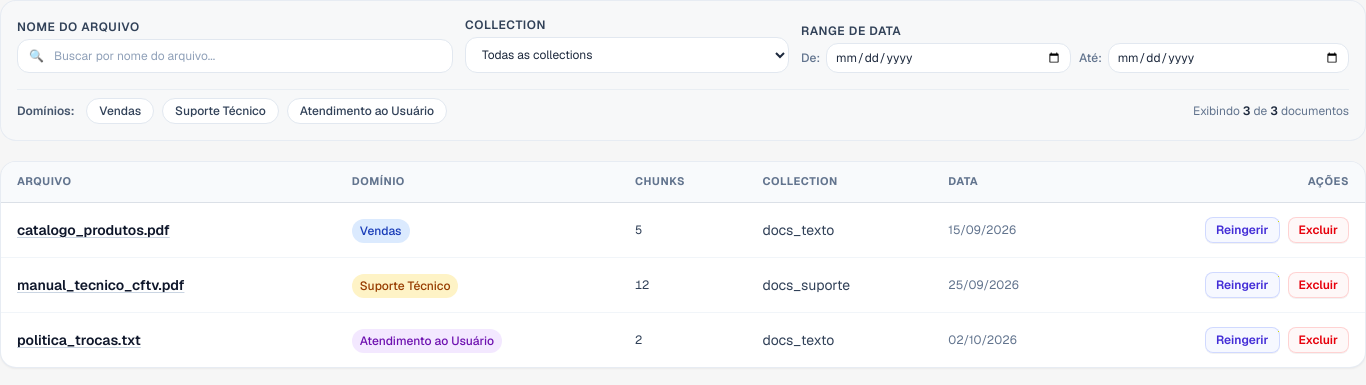
Scenario: DocumentsTable › Filtros de documentos › filtra por range de data de criação
# Filtra documentos criados entre 2026-09-20 e 2026-09-30
Type "2026-09-20" into the date field labelled "De:".
click(949, 58); type("2026-09-20")  # box [826,43,1071,73]
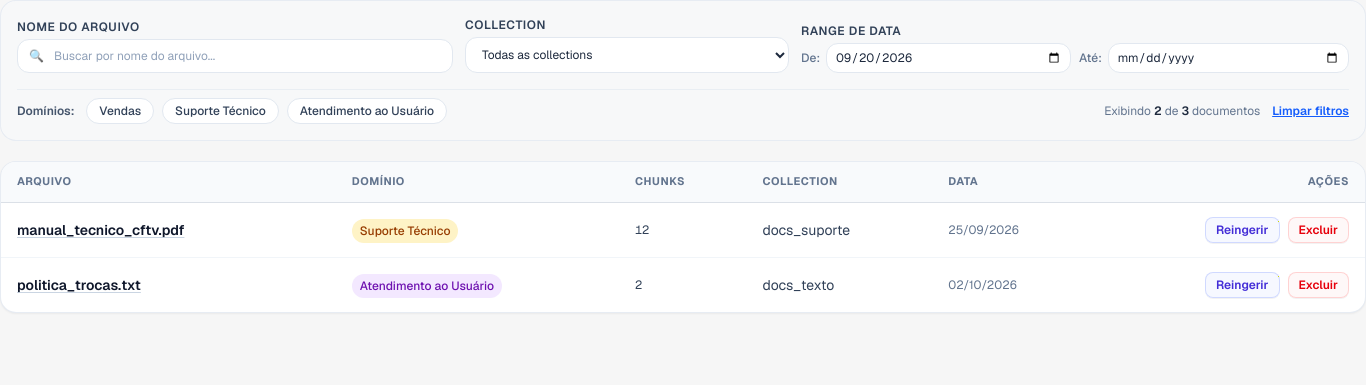
Type "2026-09-30" into the date field labelled "Até:".
click(1228, 58); type("2026-09-30")  # box [1108,43,1349,73]
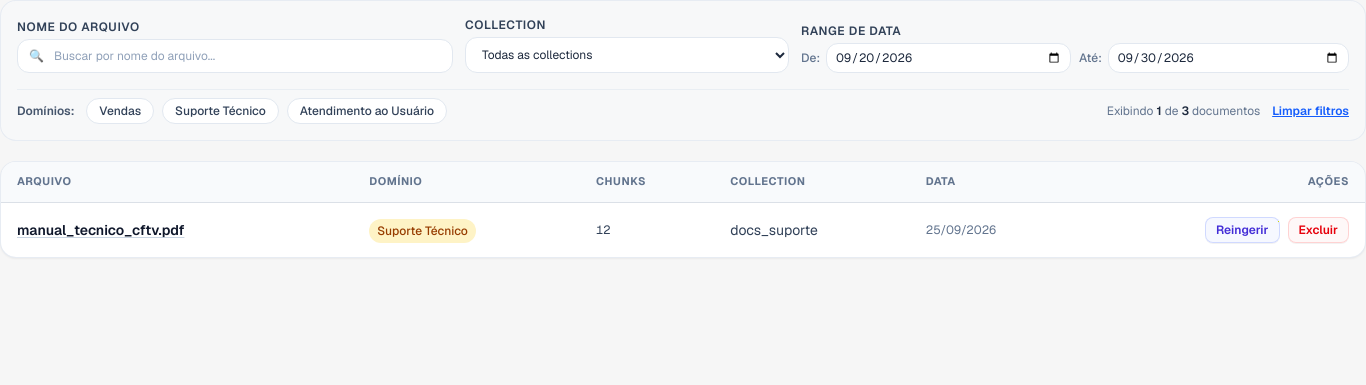
expect the text "manual_tecnico_cftv.pdf" is shown: met, box [17,220,184,240]
expect the button "politica_trocas.txt" is gone: met
